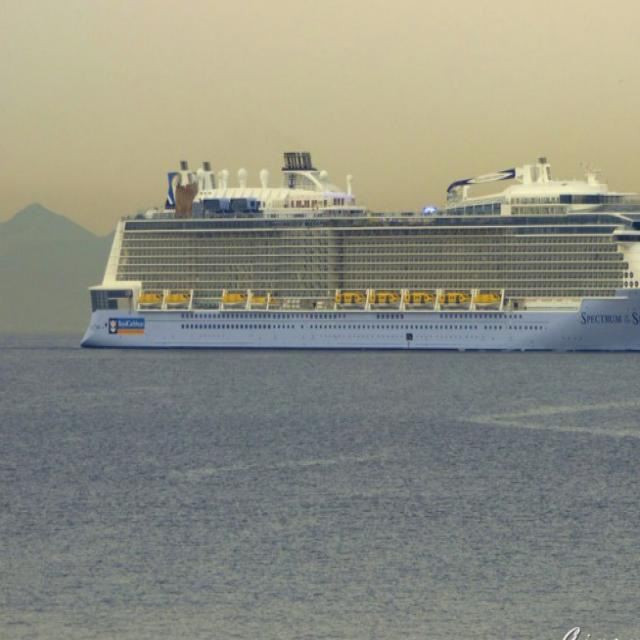cruises: (79, 143, 640, 364)
